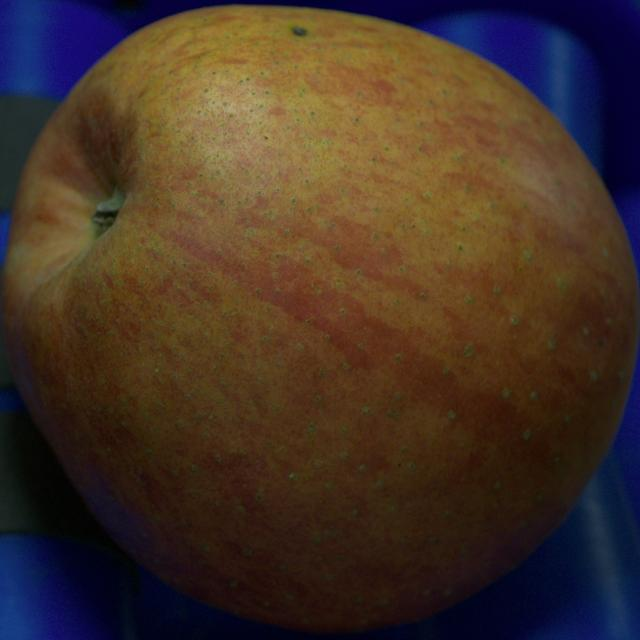apple: (2, 5, 639, 631)
bruise: (555, 296, 626, 386)
pest: (292, 27, 306, 36)
